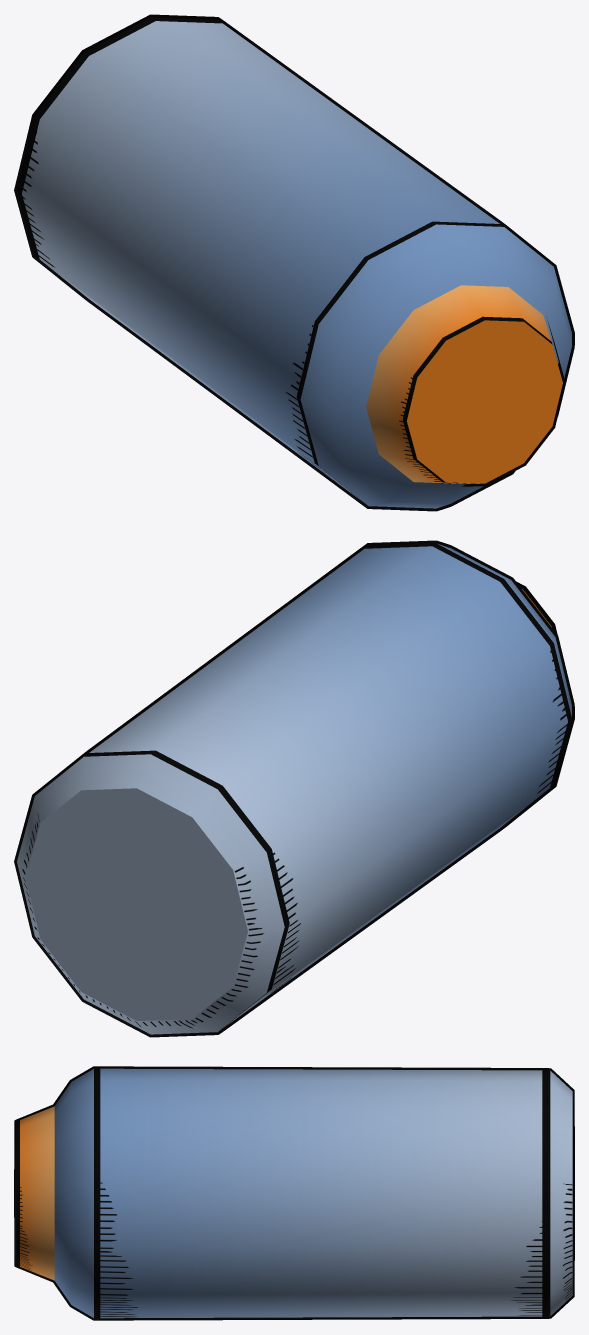
File: SciFi_Battery_Capsule02.glb
The picture shows the model from 3 angles, top to bottom: view 1: azimuth 30°, elevation 25°; view 2: azimuth 150°, elevation 25°; view 3: azimuth 270°, elevation 25°; orthographic projection. The views are drawn at different scales.
Visible parts, largest first — view 1: SciFi_Battery_Capsule02; view 2: SciFi_Battery_Capsule02; view 3: SciFi_Battery_Capsule02.
Part boxes in pixels (x1=…): SciFi_Battery_Capsule02: x1=14, y1=14, x2=574, y2=511; SciFi_Battery_Capsule02: x1=14, y1=540, x2=574, y2=1037; SciFi_Battery_Capsule02: x1=14, y1=1066, x2=574, y2=1320.
Size of the model in its own units: 0.4333 by 0.4333 by 0.9524.
Materials: 3 (2 with a texture image).
